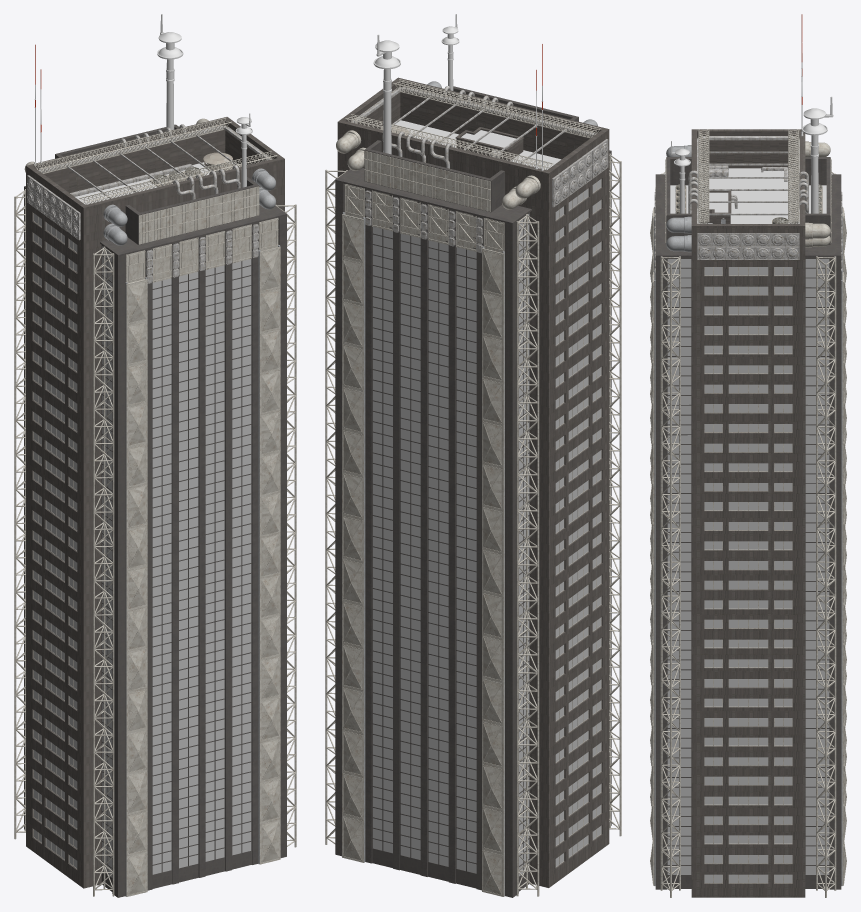
The model's file is KB3D_NEC_BldgLG_B.fbx.
3 views of the same model, side by side, from view 1: azimuth 30°, elevation 25°; view 2: azimuth 150°, elevation 25°; view 3: azimuth 270°, elevation 25° (orthographic). The views are drawn at different scales.
Parts seen in each view (by area): view 1: KB3D_NEC_BldgLG_B_Main, KB3D_NEC_BldgLG_B_AntennaA; view 2: KB3D_NEC_BldgLG_B_Main, KB3D_NEC_BldgLG_B_AntennaA; view 3: KB3D_NEC_BldgLG_B_Main, KB3D_NEC_BldgLG_B_AntennaA.
Part boxes in pixels (box(x1,y1,x2,y2)): KB3D_NEC_BldgLG_B_Main: box(14, 44, 296, 897); KB3D_NEC_BldgLG_B_AntennaA: box(157, 14, 183, 130); KB3D_NEC_BldgLG_B_Main: box(325, 14, 621, 897); KB3D_NEC_BldgLG_B_AntennaA: box(373, 34, 400, 154); KB3D_NEC_BldgLG_B_Main: box(650, 14, 846, 897); KB3D_NEC_BldgLG_B_AntennaA: box(802, 96, 833, 213).
Bounding box in the file's own units: 5457 × 20106 × 4538.
